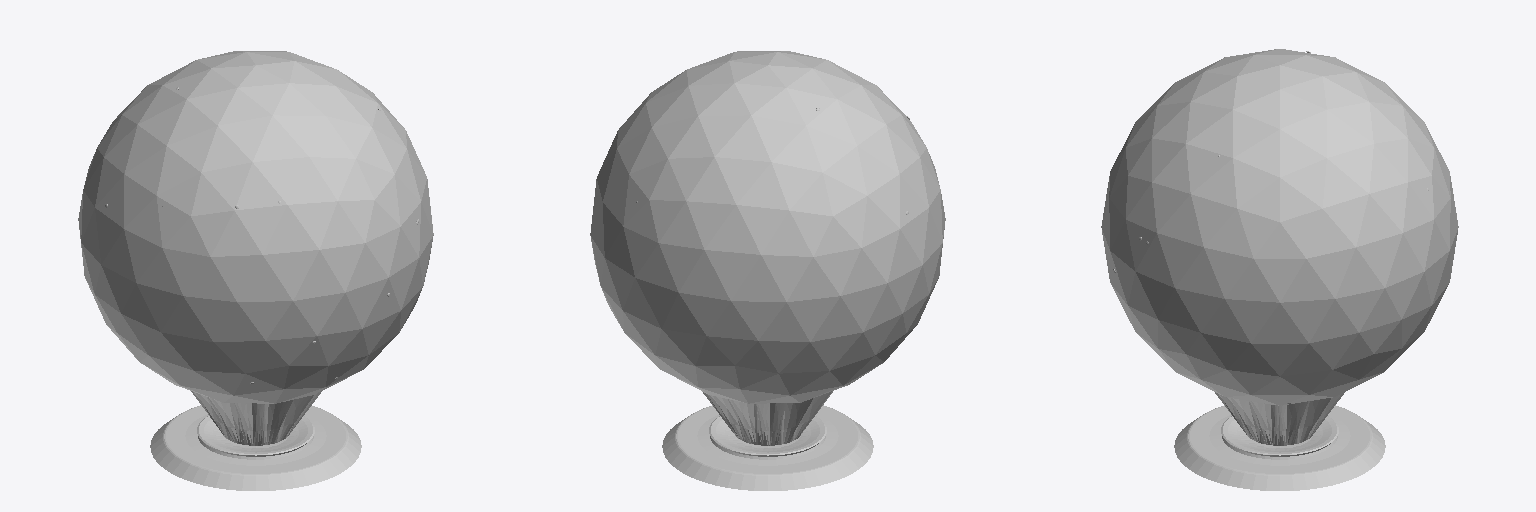
The model's file is 3d-Hologramm-(Wavefront OBJ).obj.
The picture shows the model from 3 angles: view 1: azimuth 30°, elevation 25°; view 2: azimuth 150°, elevation 25°; view 3: azimuth 270°, elevation 25°; orthographic projection.
Parts seen in each view (by area): view 1: Icosphere, 3d-Hologramm_Circle.024, Sphere.001; view 2: Icosphere, 3d-Hologramm_Circle.024, Sphere.001; view 3: Icosphere, 3d-Hologramm_Circle.024, Sphere.001.
Boxes of the visible parts, box(x1,y1,x2,y2) form: Icosphere: box(78, 51, 433, 403); 3d-Hologramm_Circle.024: box(150, 405, 361, 490); Sphere.001: box(191, 391, 320, 445); Icosphere: box(590, 51, 945, 403); 3d-Hologramm_Circle.024: box(662, 405, 873, 490); Sphere.001: box(703, 391, 832, 445); Icosphere: box(1101, 49, 1458, 405); 3d-Hologramm_Circle.024: box(1174, 405, 1385, 490); Sphere.001: box(1215, 392, 1344, 445).
Size of the model in its own units: 28.17 by 33.17 by 28.17.